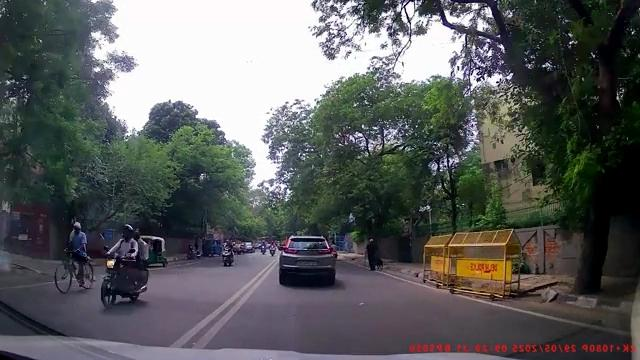passenger_with_helmet: (100, 223, 150, 309)
